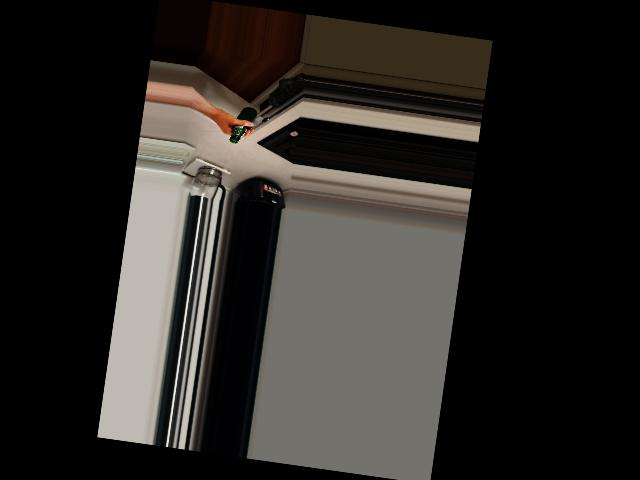beer: (228, 104, 258, 145)
